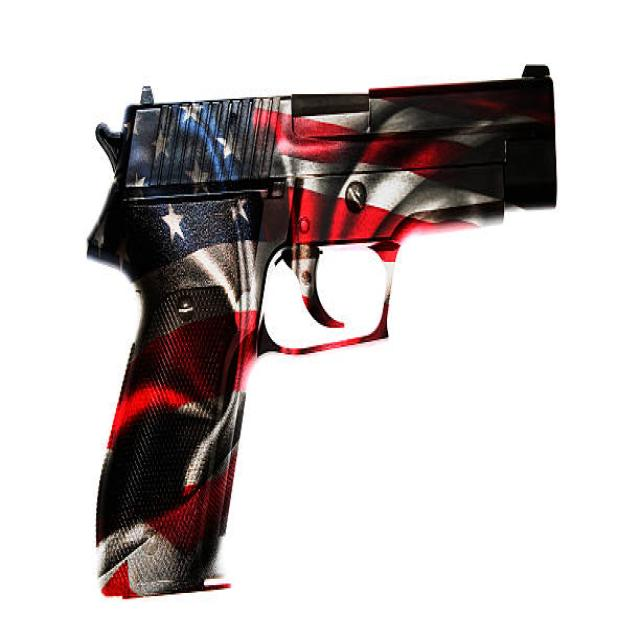pistol: (79, 54, 563, 618)
